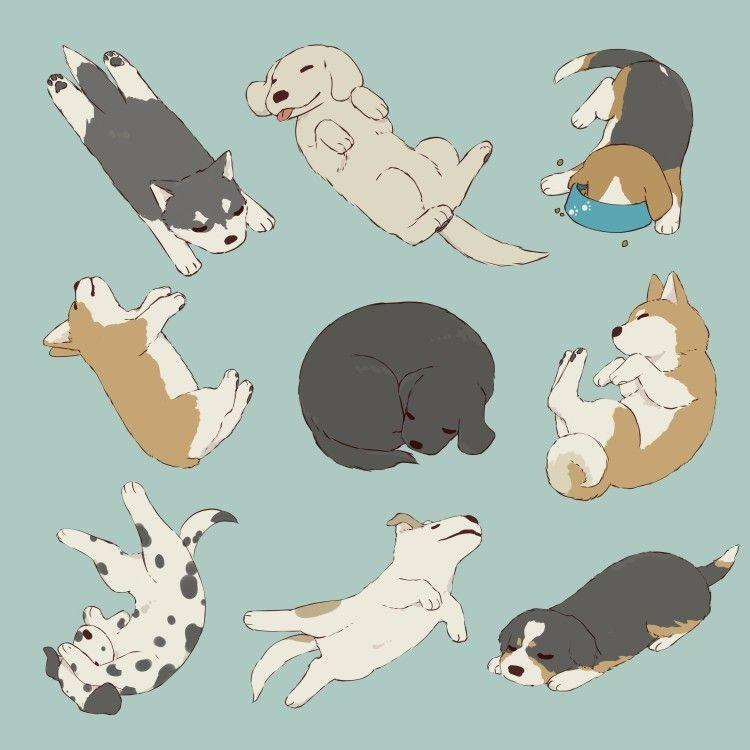puppy-dog: (242, 46, 550, 266), (43, 45, 275, 278), (241, 510, 486, 711), (41, 480, 241, 718), (39, 274, 256, 472), (545, 269, 717, 503), (486, 542, 742, 695), (294, 297, 499, 473), (542, 48, 696, 237)
